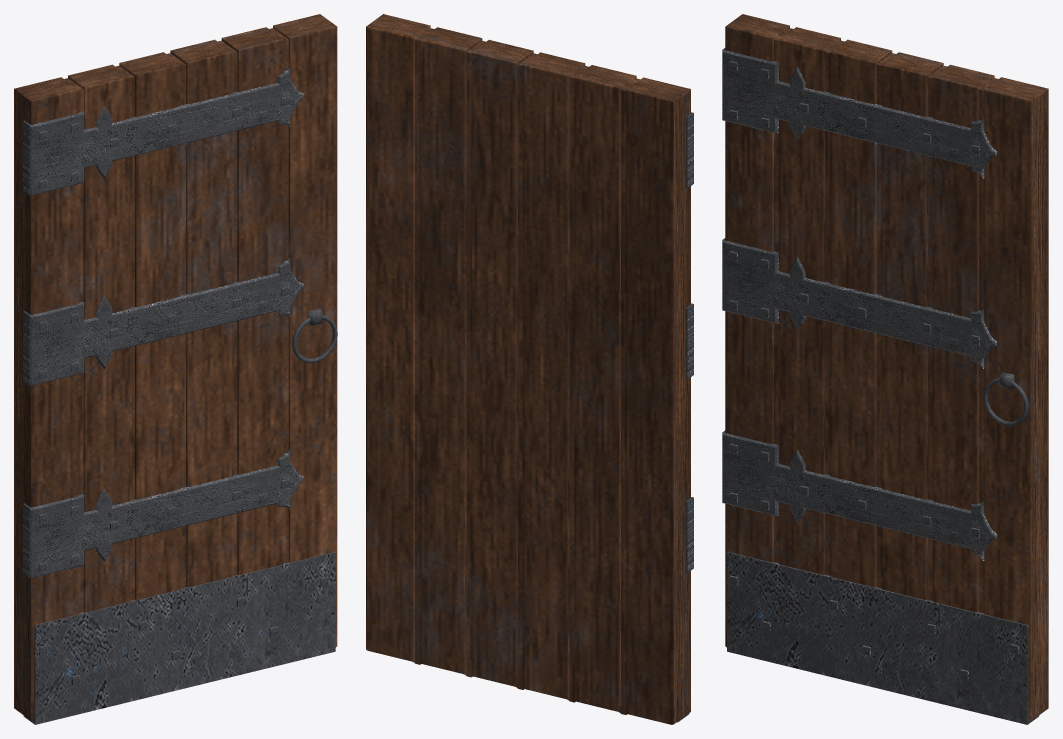
File: puerta.glb
3 views of the same model, side by side, from view 1: azimuth 30°, elevation 25°; view 2: azimuth 150°, elevation 25°; view 3: azimuth 330°, elevation 25° (orthographic).
Parts seen in each view (by area): view 1: Door; view 2: Door; view 3: Door.
Part boxes in pixels (box(x1,y1,x2,y2)): Door: box(14, 14, 337, 724); Door: box(366, 14, 693, 724); Door: box(722, 14, 1048, 724).
Size of the model in its own units: 0.0151 by 0.0291 by 0.00182.
Materials: 1 (1 with a texture image).
